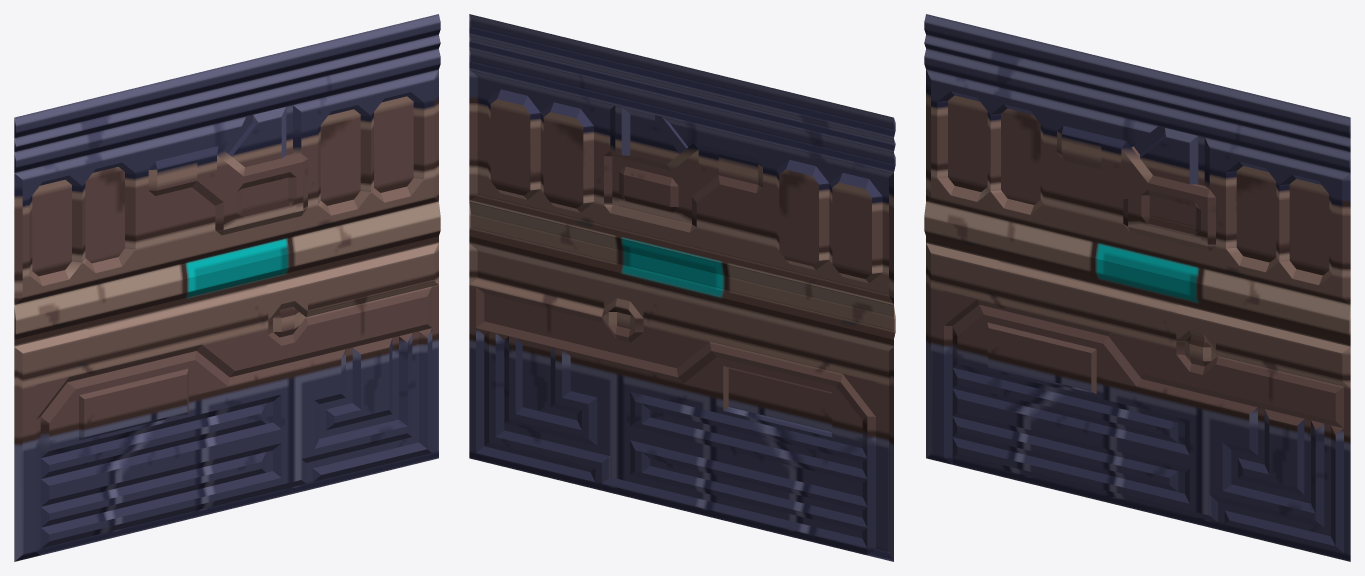
Rendered from sci3_3.fbx.
3 views of the same model, side by side, from view 1: azimuth 30°, elevation 25°; view 2: azimuth 150°, elevation 25°; view 3: azimuth 330°, elevation 25° (orthographic).
Parts seen in each view (by area): view 1: sci3_1_mesh; view 2: sci3_1_mesh; view 3: sci3_1_mesh.
Boxes of the visible parts, bbox=[...] form: sci3_1_mesh: bbox=[14, 14, 440, 561]; sci3_1_mesh: bbox=[469, 14, 895, 561]; sci3_1_mesh: bbox=[924, 14, 1350, 561].
Bounding box in the file's own units: 256 × 256 × 6.
